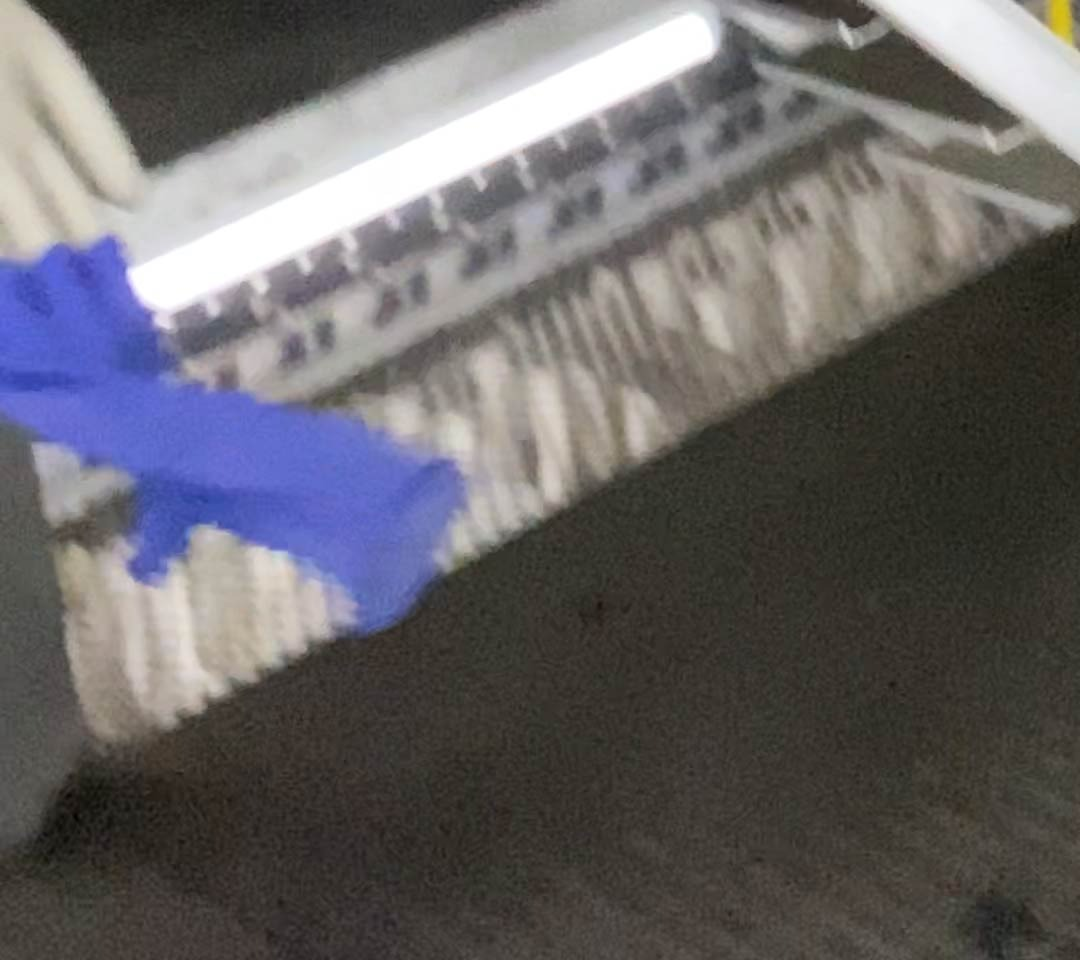glove: (1, 229, 464, 623)
